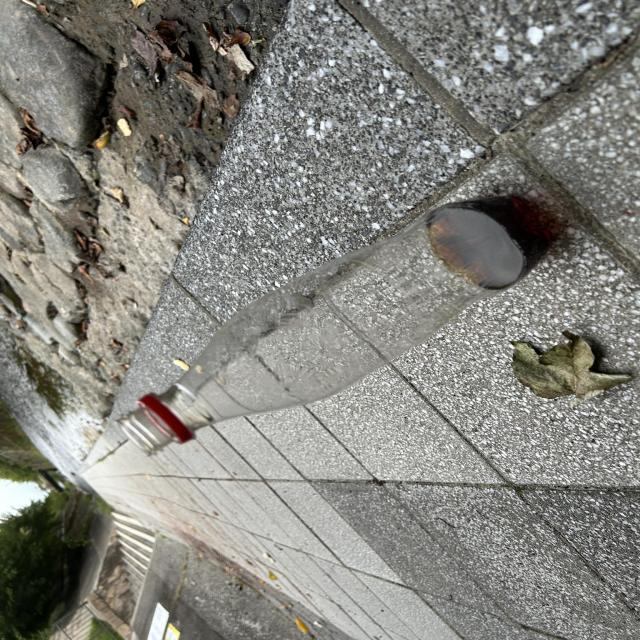low: (120, 197, 548, 452)
